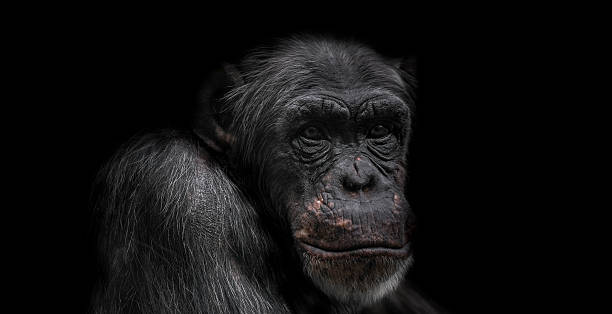chimpanzee: (191, 25, 442, 314)
